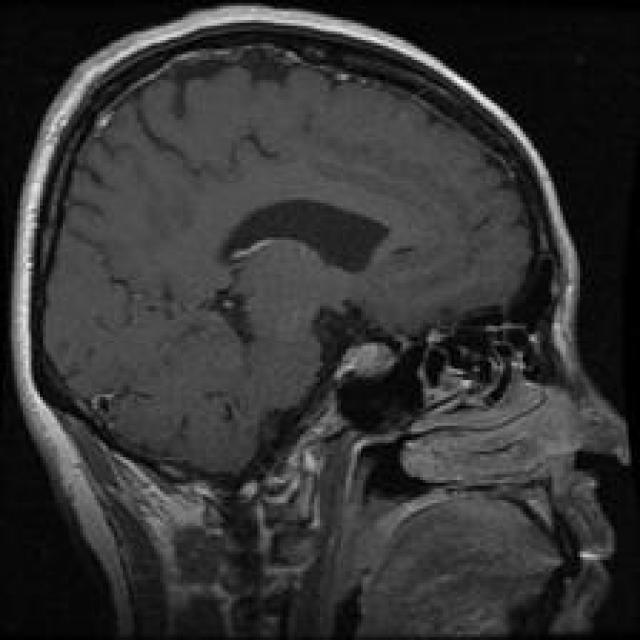pituitary_tumor: (313, 317, 426, 408)
